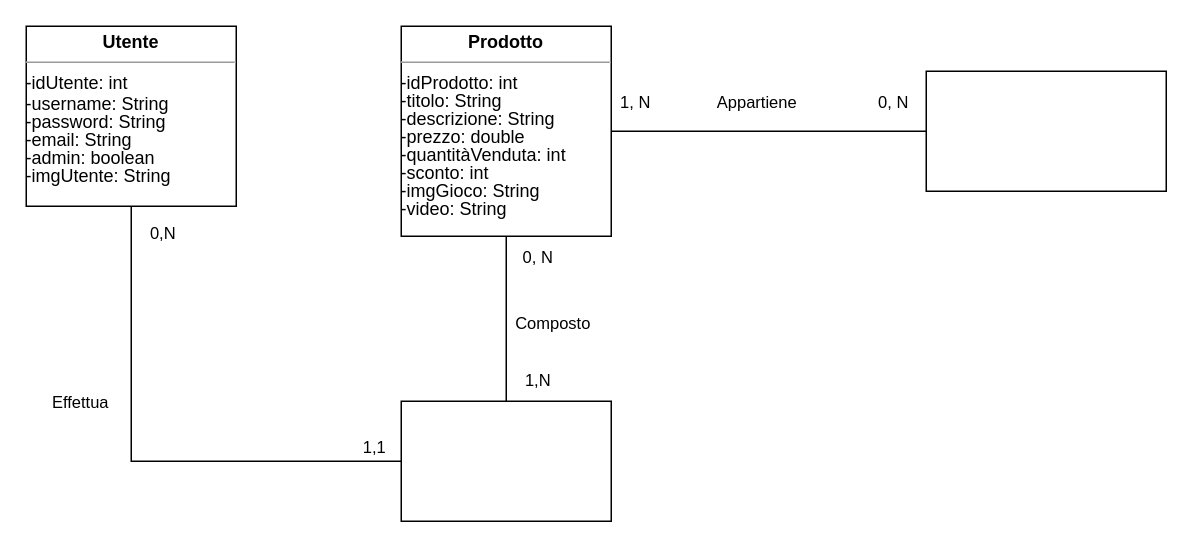
Image size: 1193x549. Some labels were removed from this diagram. The centre of each missing label's shape, as x and y in pixels:
"Categoria -idCategoria: int -nomeCategoria: String -descrizioneCategoria: String" goes at [1045,130].
"Ordine -idOrdine: int -dataAcquisto: String -totaleAcquisto: double" goes at [505,460].
